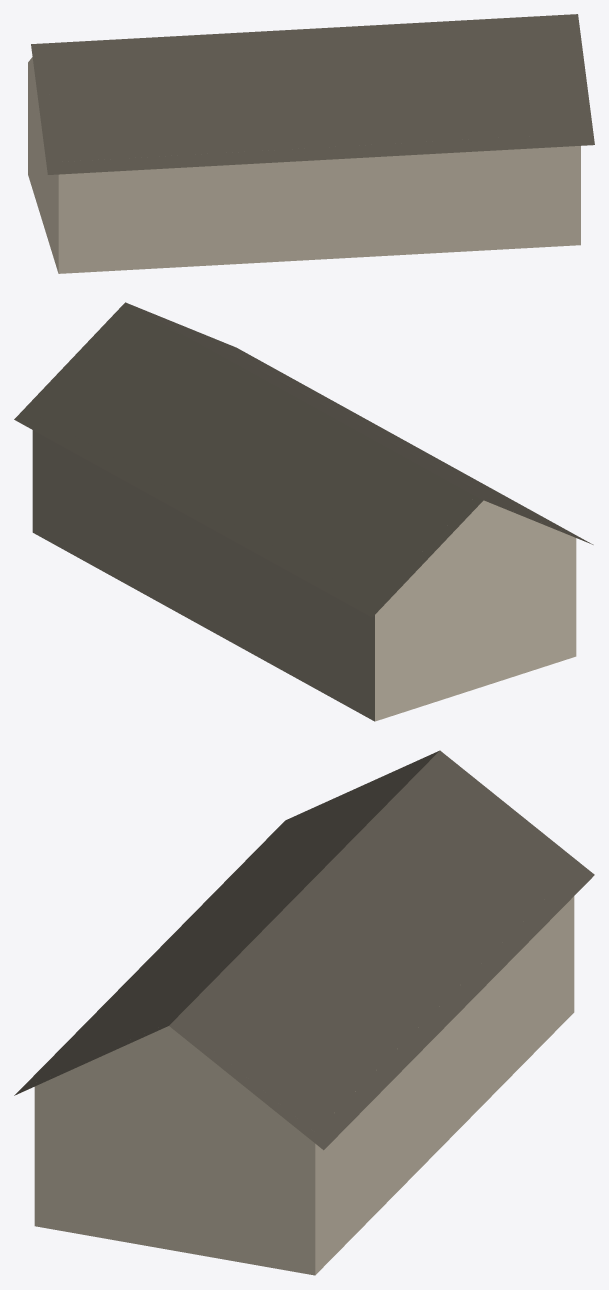
3 renders of one model, top to bottom at view 1: azimuth 30°, elevation 25°; view 2: azimuth 150°, elevation 25°; view 3: azimuth 270°, elevation 25°, orthographic. The views are drawn at different scales.
Parts seen in each view (by area): view 1: tuile; view 2: tuile; view 3: tuile.
Boxes of the visible parts, <box> form: tuile: <box>28,14,594,273</box>; tuile: <box>14,302,593,721</box>; tuile: <box>14,750,594,1275</box>.
Bounding box in the file's own units: 17.18 × 5.62 × 12.79.
